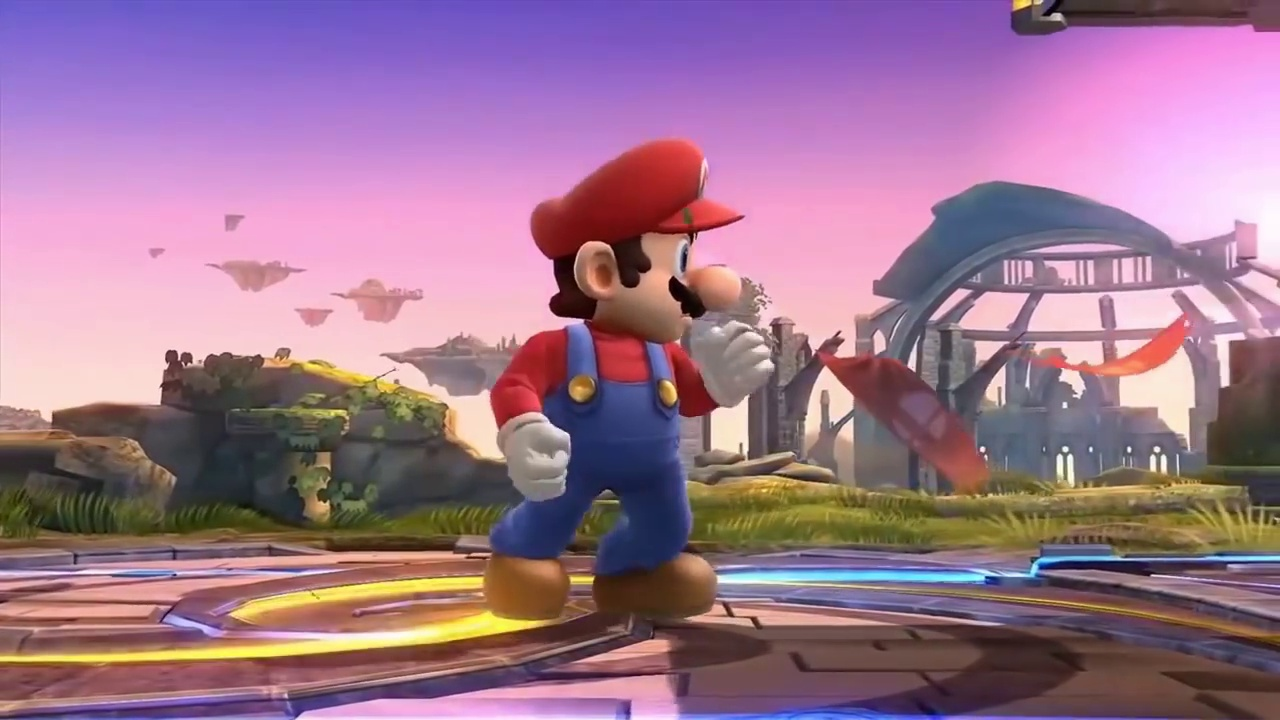Mario: (488, 138, 776, 621)
